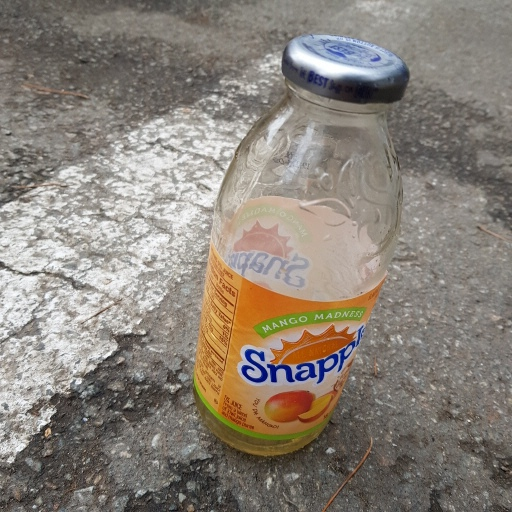Glass_4: (198, 34, 410, 464)
